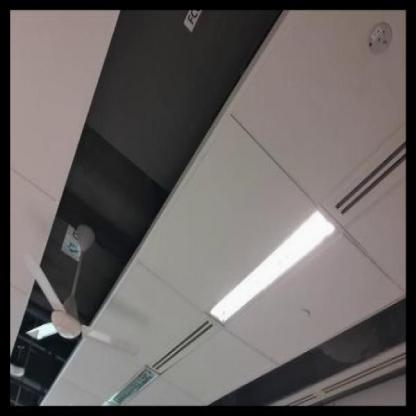light_on: (202, 192, 339, 334)
